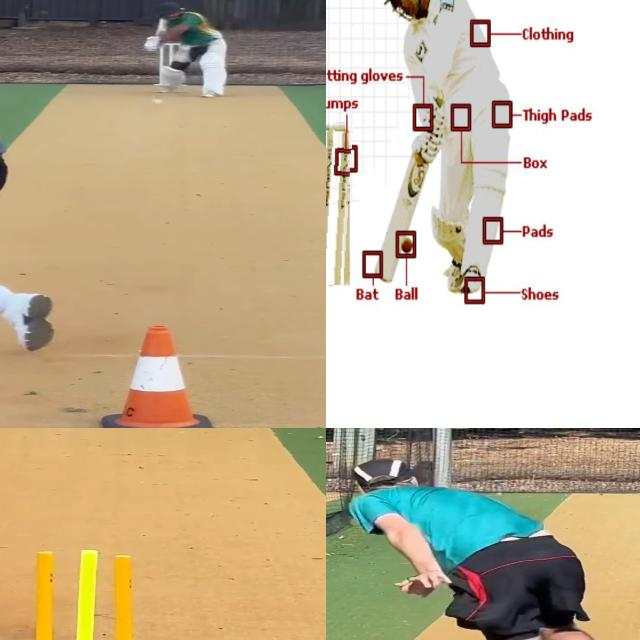Cricket ball: (398, 232, 415, 261), (150, 96, 168, 106)
Stumps: (12, 544, 149, 640), (326, 119, 353, 285)
